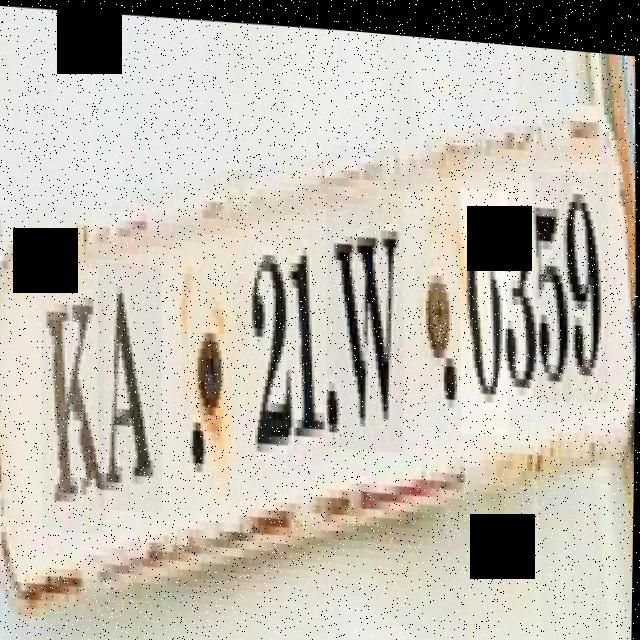0: (460, 181, 510, 425)
1: (288, 203, 329, 448)
3: (498, 173, 540, 402)
5: (533, 163, 570, 389)
9: (565, 160, 609, 389)
A: (100, 262, 163, 507)
K: (42, 276, 105, 528)
W: (327, 192, 404, 442)
